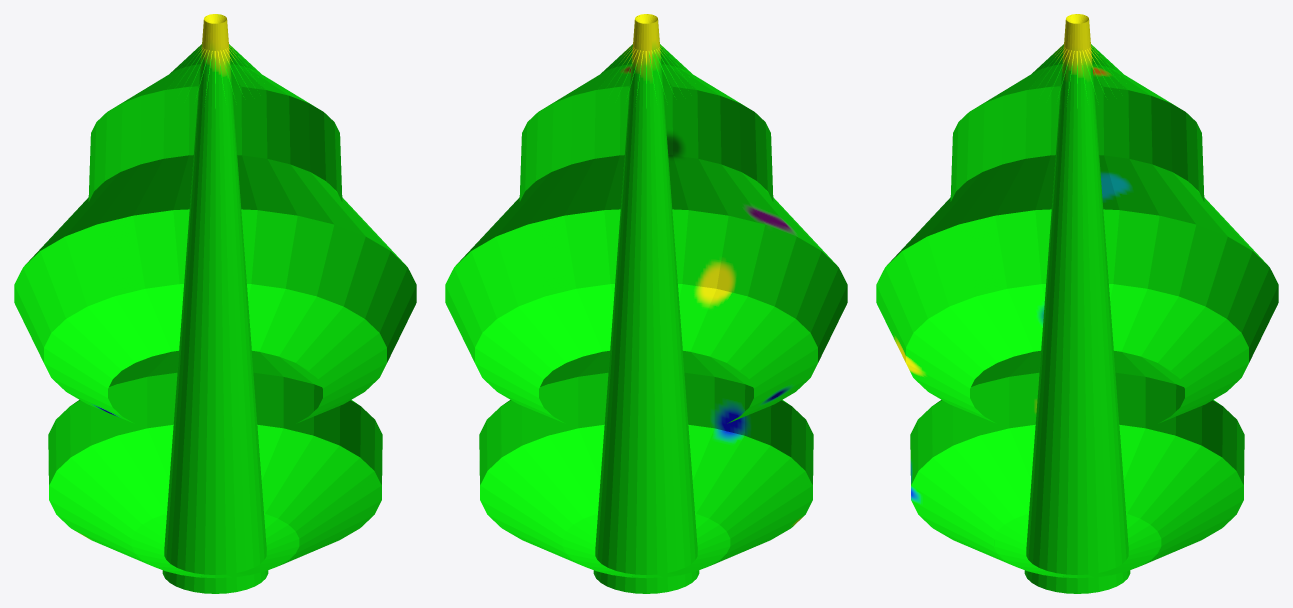
3 renders of one model, left to right at view 1: azimuth 30°, elevation 25°; view 2: azimuth 150°, elevation 25°; view 3: azimuth 270°, elevation 25°, orthographic.
Visible parts, largest first — view 1: algeomath; view 2: algeomath; view 3: algeomath.
Part boxes in pixels (<box>): algeomath: <box>14,14,416,593</box>; algeomath: <box>445,14,847,593</box>; algeomath: <box>876,14,1278,593</box>.
Bounding box in the file's own units: 4 × 6.03 × 3.98.
Materials: 1 (1 with a texture image).
